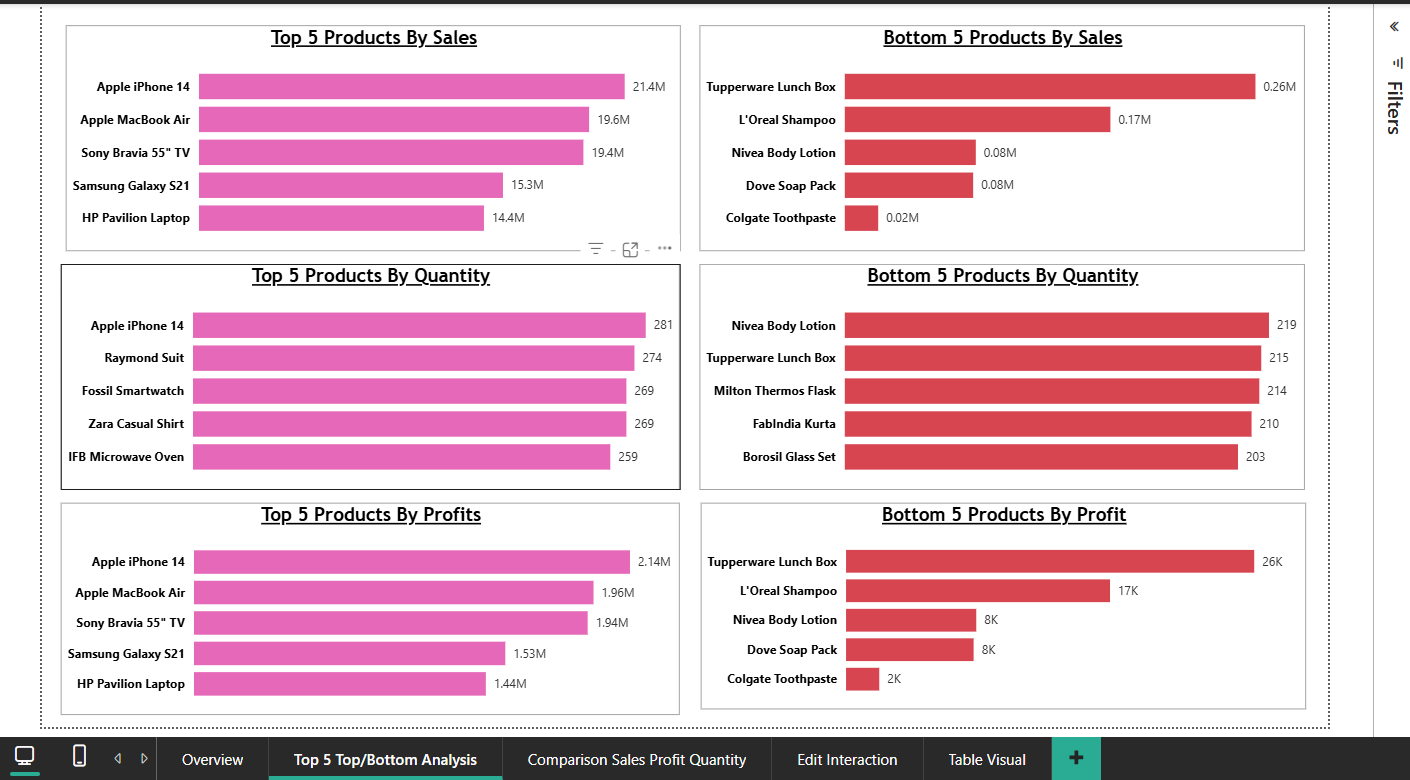

What the dashboard file says about the page in this screenshot:
{"tool":"powerbi","page":{"name":"Top 5 Top/Bottom Analysis","canvas":[1280,720],"ordinal":1},"visuals":[{"type":"barChart","title":"Top 5 Products By Sales","fields":{"Y":["Sum(Fact Table.Net Sales)"],"Category":["Dim Product.Product Name"]},"box":[23.3,20.6,612,225],"z":0},{"type":"barChart","title":"Bottom 5 Products By Sales","fields":{"Y":["Sum(Fact Table.Net Sales)"],"Category":["Dim Product.Product Name"]},"box":[654.5,20.6,602.4,225],"z":1000},{"type":"barChart","title":"Top 5 Products By Quantity","fields":{"Category":["Dim Product.Product Name"],"Y":["Sum(Fact Table.Units Sold)"]},"box":[19.2,259.3,616.1,225],"z":2000},{"type":"barChart","title":"Bottom 5 Products By Quantity","fields":{"Category":["Dim Product.Product Name"],"Y":["Sum(Fact Table.Units Sold)"]},"box":[654.5,259.3,602.4,225],"z":3000},{"type":"barChart","title":"Top 5 Products By Profits","fields":{"Category":["Dim Product.Product Name"],"Y":["Sum(Fact Table.Profit)"]},"box":[19.2,496.7,616.1,211.3],"z":4000},{"type":"barChart","title":"Bottom 5 Products By Profit","fields":{"Category":["Dim Product.Product Name"],"Y":["Sum(Fact Table.Profit)"]},"box":[655.9,496.7,602.4,205.8],"z":5000}]}

Visuals, with their boxes on the page's 1280x720 design canvas (x1, y1, x2, y2). These are canvas units, not pixel positions in the 1410x780 screenshot, which may show the page scaled, cropped or inside an application window:
"Top 5 Products By Sales" barChart: rect(23, 21, 635, 246)
"Bottom 5 Products By Sales" barChart: rect(654, 21, 1257, 246)
"Top 5 Products By Quantity" barChart: rect(19, 259, 635, 484)
"Bottom 5 Products By Quantity" barChart: rect(654, 259, 1257, 484)
"Top 5 Products By Profits" barChart: rect(19, 497, 635, 708)
"Bottom 5 Products By Profit" barChart: rect(656, 497, 1258, 702)
